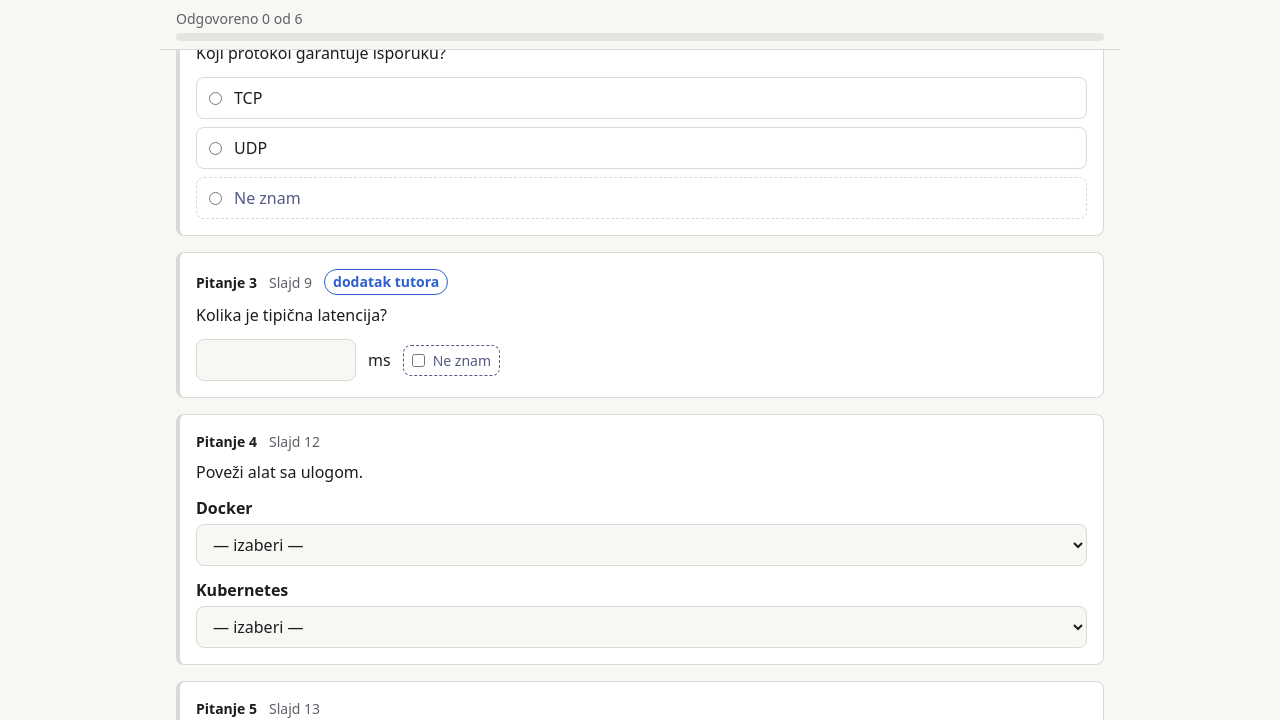
Scenario: QuizPage player › asks for a number when the text is not one, and does not count it
(page scrolled)
Type "abc" into the field named "Odgovor (broj)" at (276, 360), box [196,339,356,381]
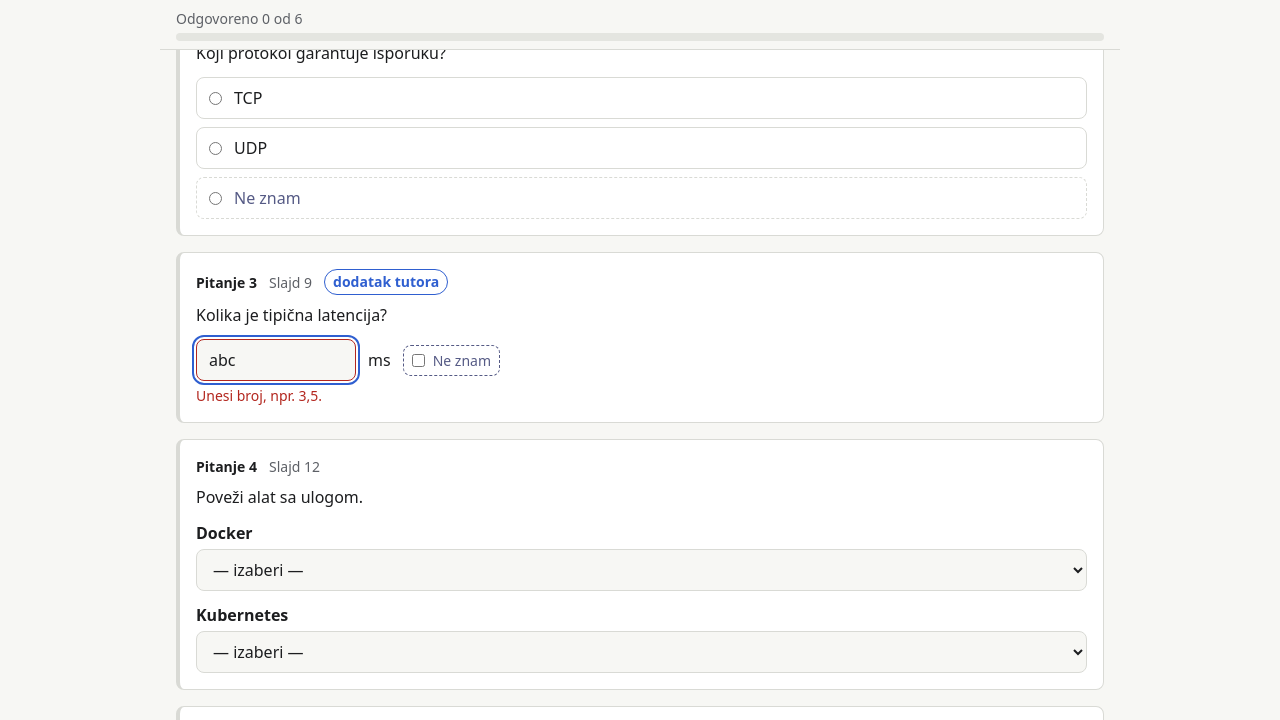
Expected: the text "Unesi broj, npr. 3,5." is shown, [196,386,322,405]
